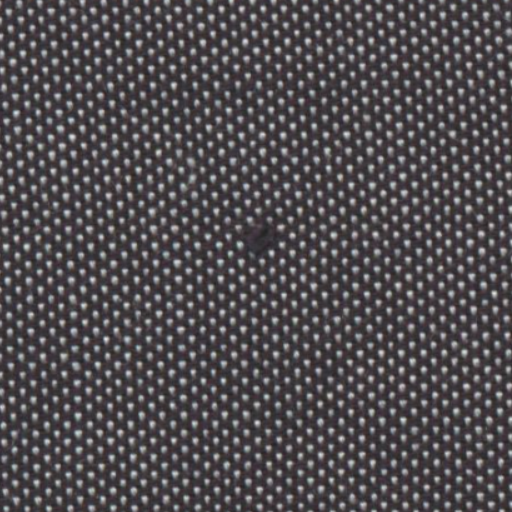MianQiu: (220, 202, 304, 276)
